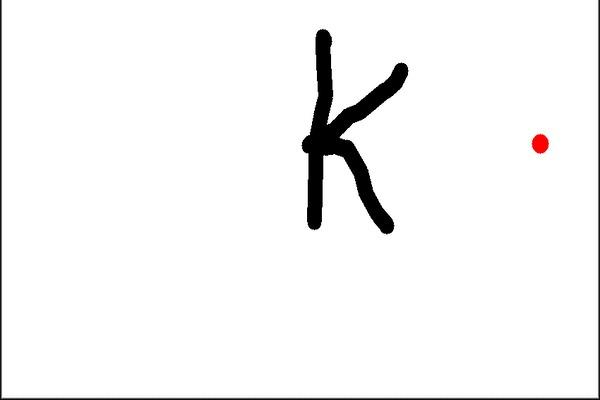K: (298, 23, 414, 243)
